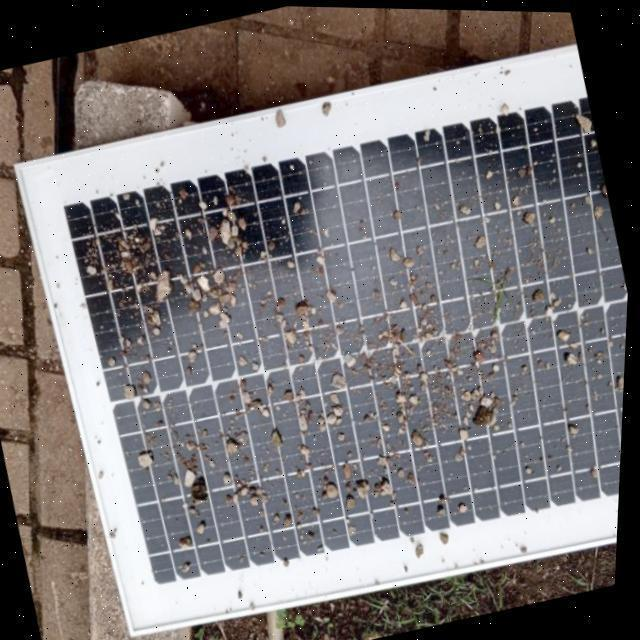Anomaly Solar Panel: (37, 36, 639, 610)
Surface Contaminant: (47, 52, 630, 613)
